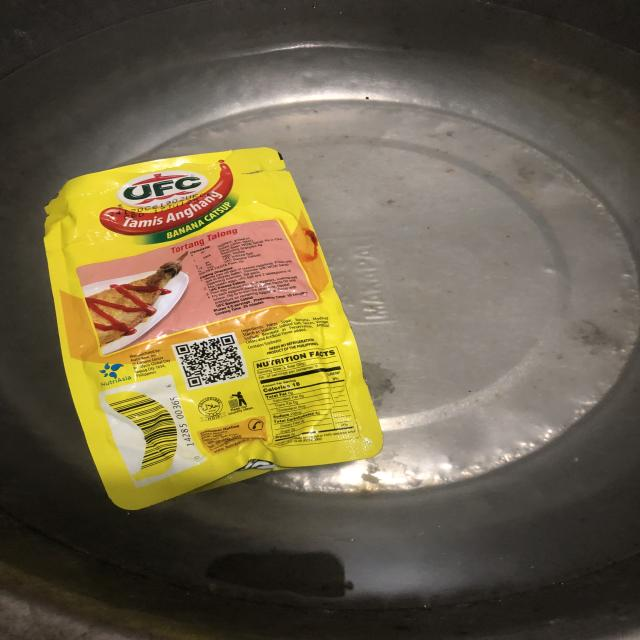Plastic Pouch: (0, 130, 402, 521)
